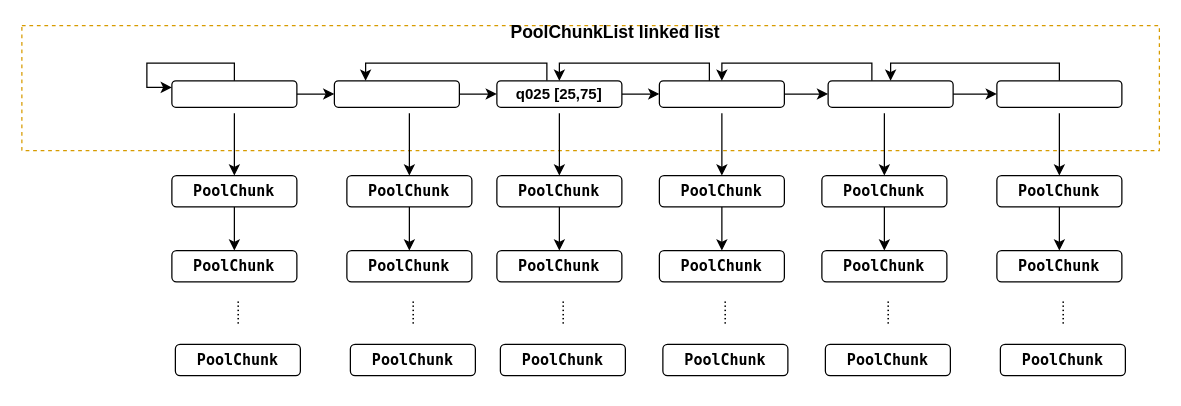
This 1181x406 diagram has some shape labels left out. The box of each missing label's shape, as (x1, y1, x2, y2) in pixels:
q000 [1,50]: (333, 80, 459, 107)
q050 [50,100]: (658, 80, 784, 107)
q075 [75,100]: (827, 80, 953, 107)
q100 [100,++]: (996, 80, 1122, 107)
qInit [--,25]: (171, 80, 297, 107)
